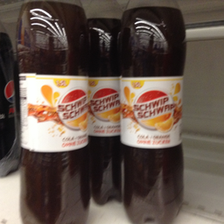soda: (15, 1, 88, 224), (117, 2, 188, 224)
